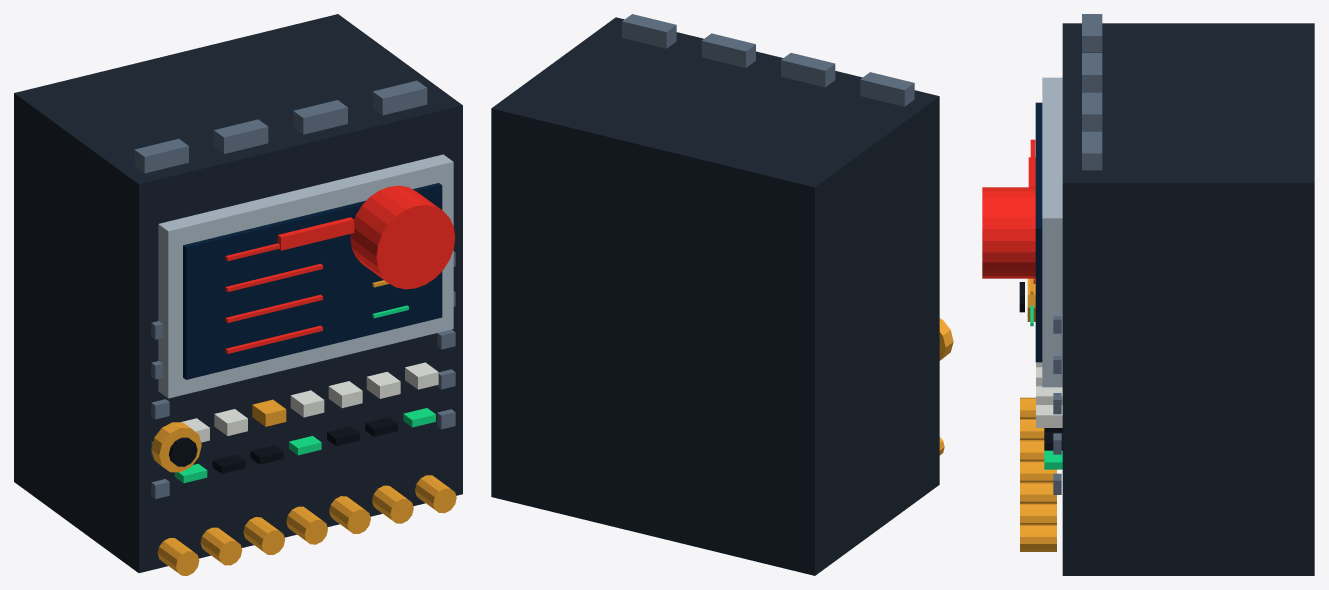
The model's file is 72_L87_RingEmergencyStopStation.fbx.
3 renders of one model, left to right at view 1: azimuth 30°, elevation 25°; view 2: azimuth 150°, elevation 25°; view 3: azimuth 270°, elevation 25°, orthographic.
Visible parts, largest first — view 1: L87_RingEmergencyStopStation, L87_RingEmergencyStopStation_Part_0010, L87_RingEmergencyStopStation_Part_0009, L87_RingEmergencyStopStation_Part_0011, L87_RingEmergencyStopStation_Part_0012; view 2: L87_RingEmergencyStopStation, L87_RingEmergencyStopStation_Part_0009; view 3: L87_RingEmergencyStopStation, L87_RingEmergencyStopStation_Part_0010, L87_RingEmergencyStopStation_Part_0009.
Boxes of the visible parts, x1,y1,x2,y2 form: L87_RingEmergencyStopStation: (14, 14, 462, 575); L87_RingEmergencyStopStation_Part_0010: (277, 185, 455, 289); L87_RingEmergencyStopStation_Part_0009: (134, 80, 427, 173); L87_RingEmergencyStopStation_Part_0011: (151, 422, 201, 472); L87_RingEmergencyStopStation_Part_0012: (169, 437, 197, 466); L87_RingEmergencyStopStation: (491, 17, 944, 575); L87_RingEmergencyStopStation_Part_0009: (622, 14, 914, 106); L87_RingEmergencyStopStation: (1020, 23, 1314, 575); L87_RingEmergencyStopStation_Part_0010: (982, 157, 1035, 278); L87_RingEmergencyStopStation_Part_0009: (1082, 14, 1102, 170).
Bounding box in the file's own units: 98.94 × 118 × 86.98.
